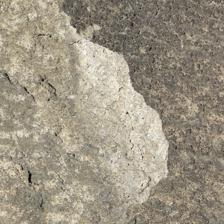Crack: (45, 0, 142, 103), (51, 33, 102, 144)
